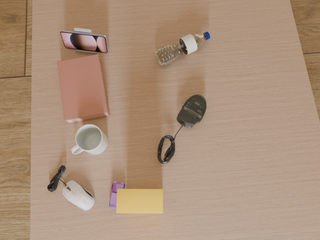book: (57, 54, 110, 124)
bottle: (155, 32, 210, 66)
box: (116, 188, 163, 213)
cup: (71, 124, 108, 154)
mouse: (62, 180, 94, 210), (177, 95, 206, 128)
phone: (60, 30, 108, 53)
toy_car: (109, 182, 125, 209)
